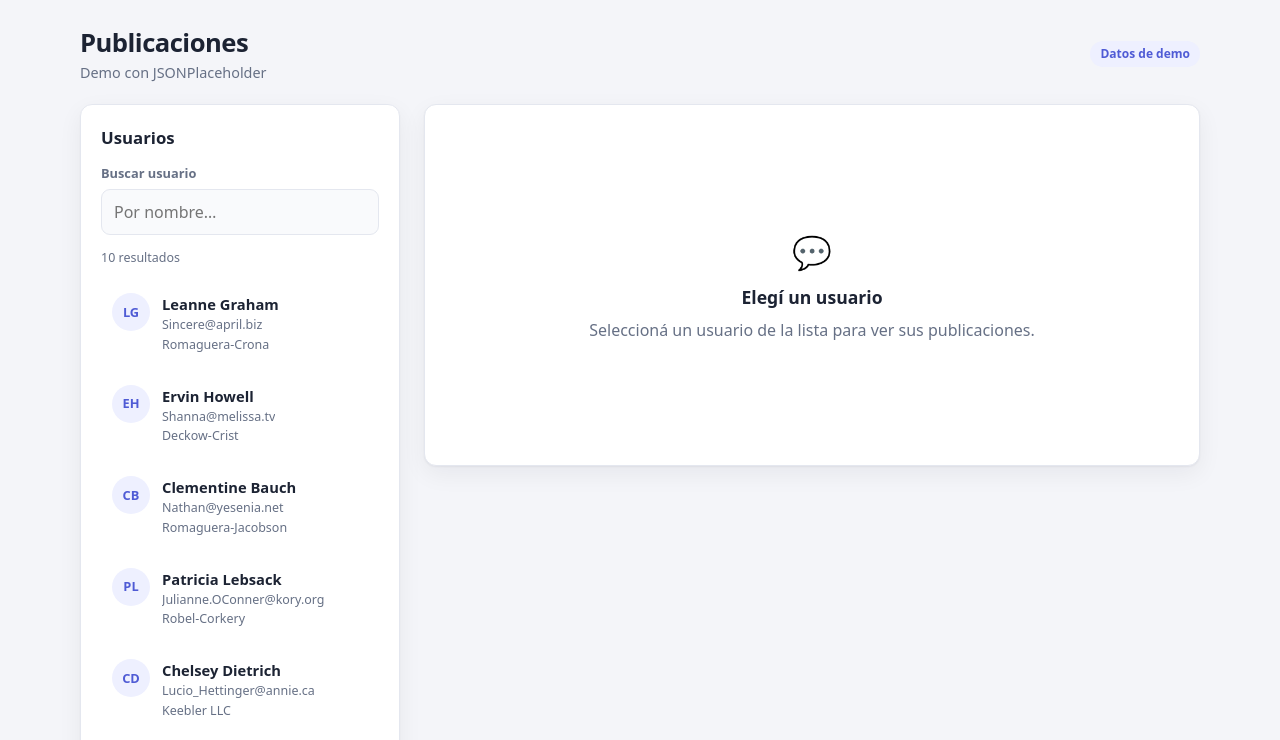
Test: formulario de publicación › valida los campos y crea una publicación con el body correcto
The image size is (1280, 740).
Click the button "LG Leanne Graham Sincere@april.biz Romaguera-Crona".
click(240, 324)  # box [101,282,379,366]
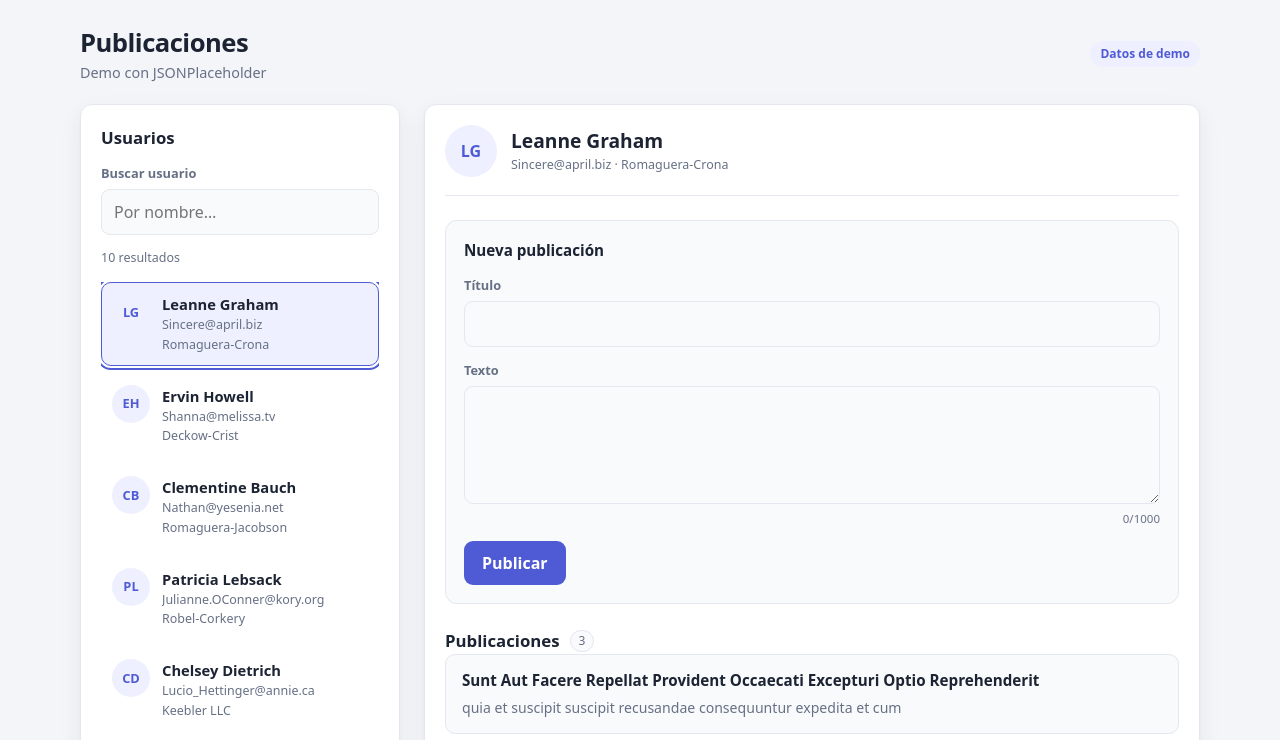
Check: the button "Publicar" is shown
Click the button "Publicar".
click(515, 563)  # box [464,541,566,585]
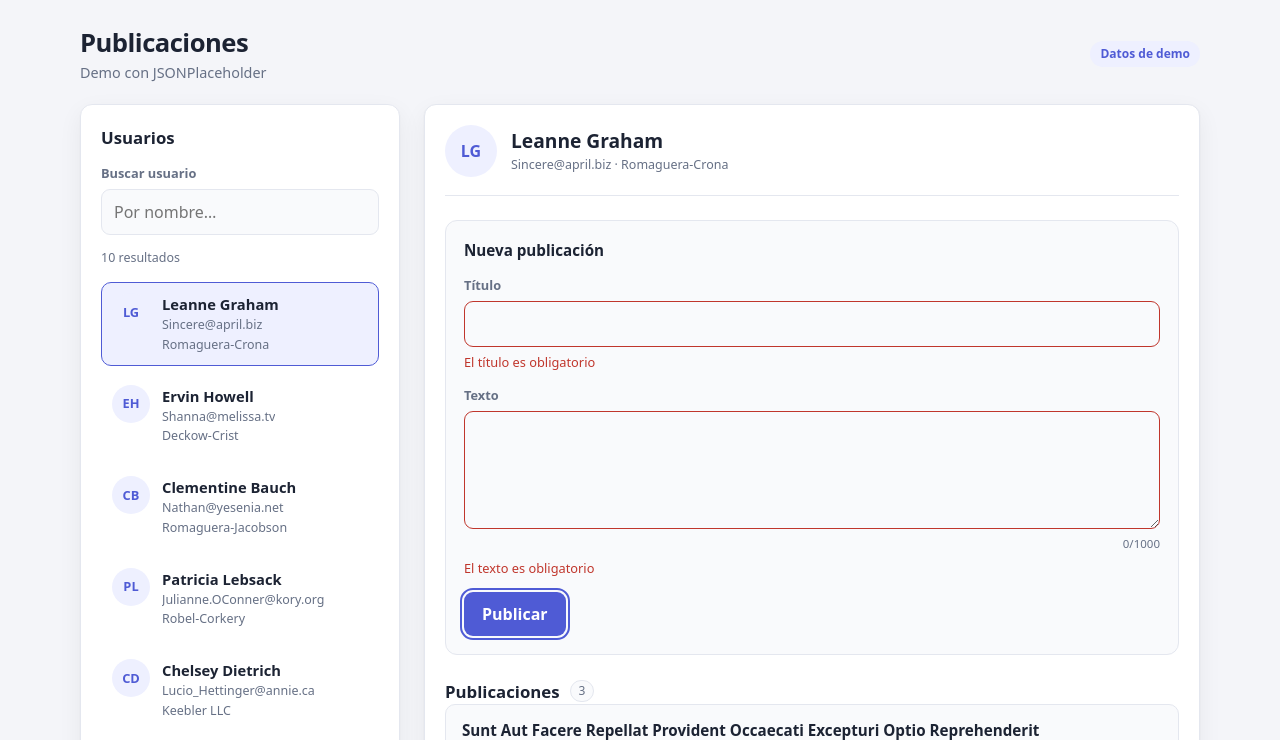
Check: the text "El título es obligatorio" is shown, box [464,353,595,371]
Check: the text "El texto es obligatorio" is shown, box [464,559,594,577]
Type "Mi primer post" into the field labelled "Título".
click(812, 324); type("Mi primer post")  # box [464,301,1160,347]
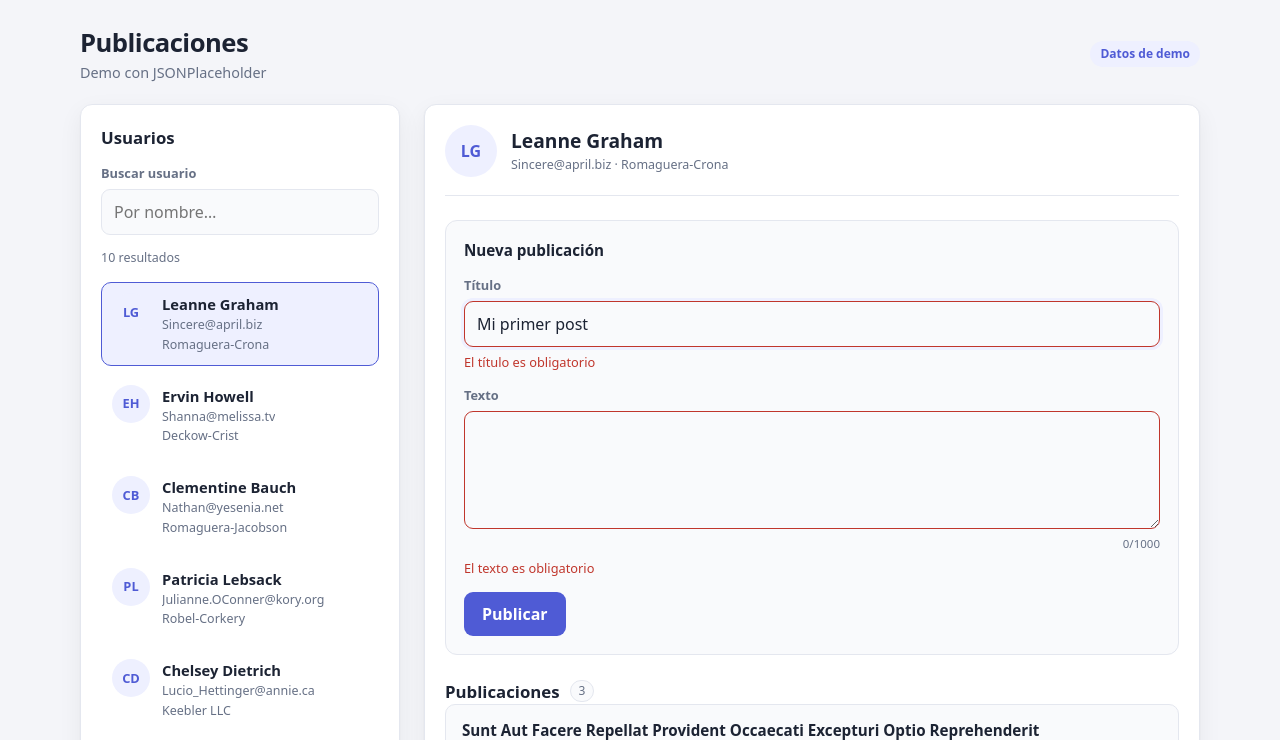
Type "Contenido de prueba" into the text box labelled "Texto".
click(812, 470); type("Contenido de prueba")  # box [464,411,1160,529]
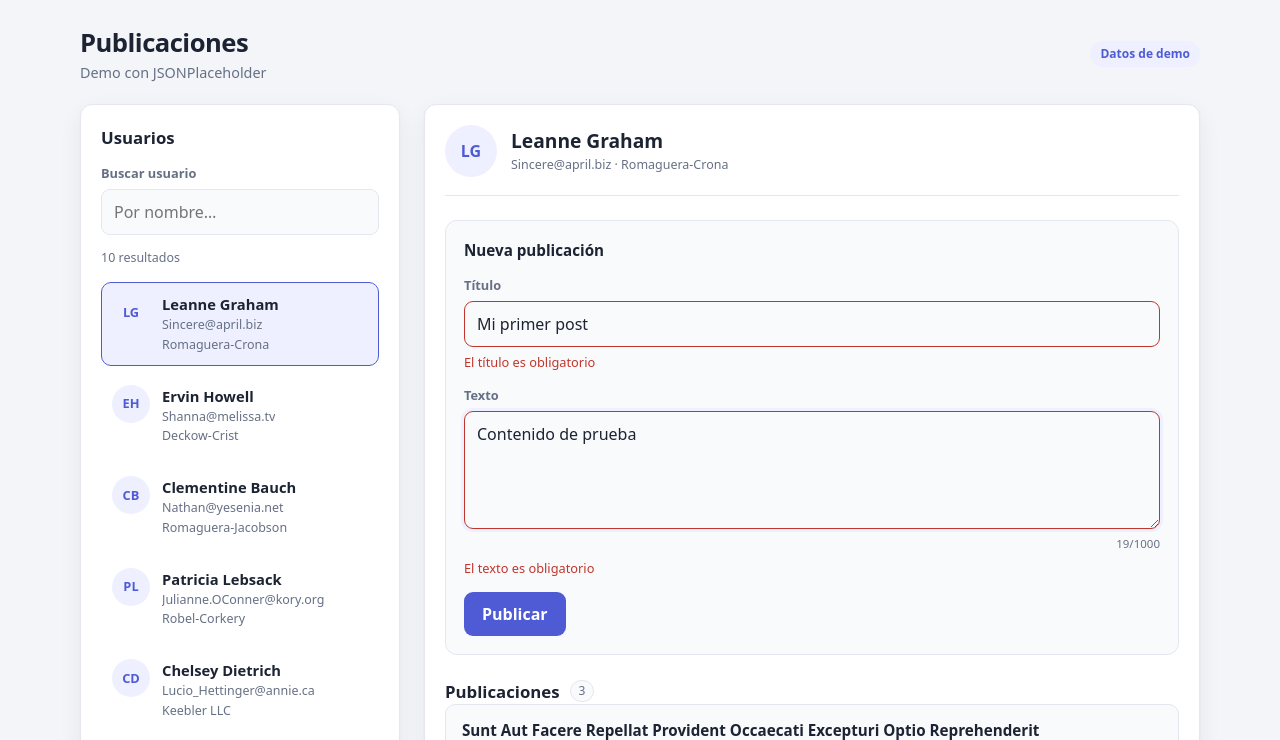
Click the button "Publicar".
click(515, 614)  # box [464,592,566,636]
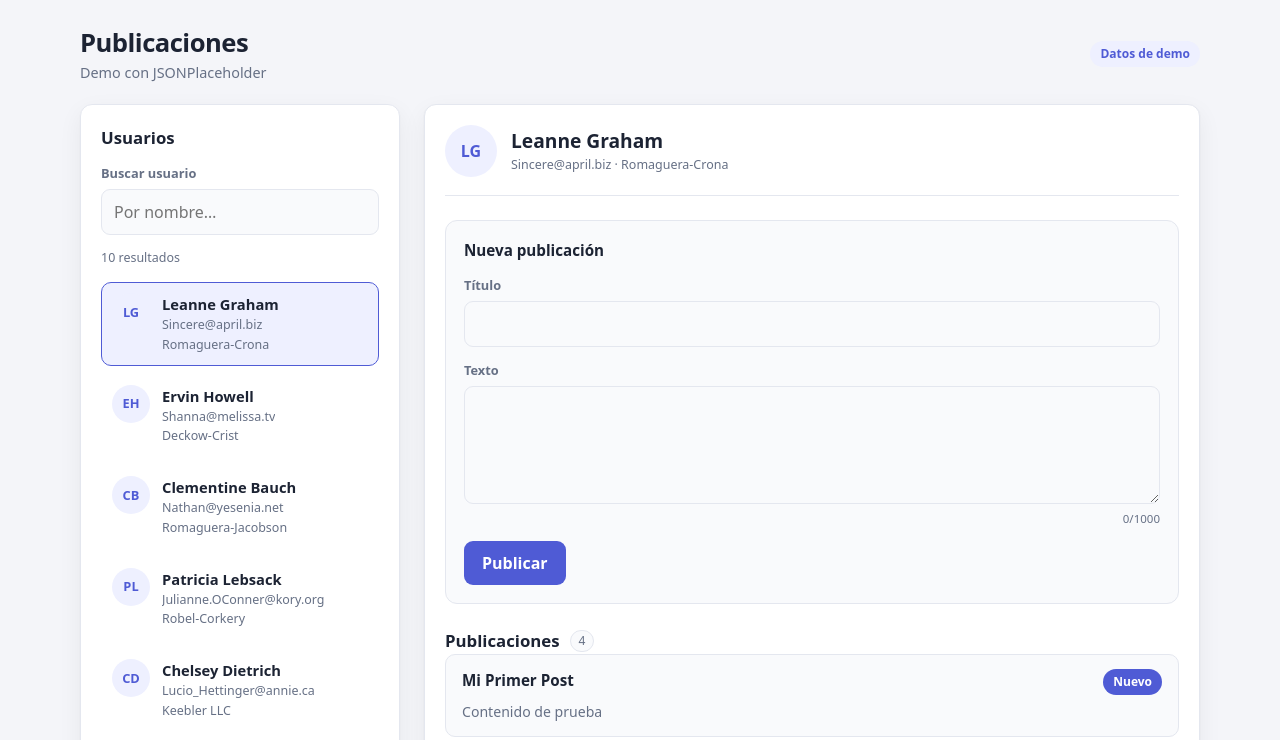
Check: the heading "Mi primer post" is shown, box [462,669,574,691]
Check: the text "Nuevo" is shown, box [1103,669,1162,695]
